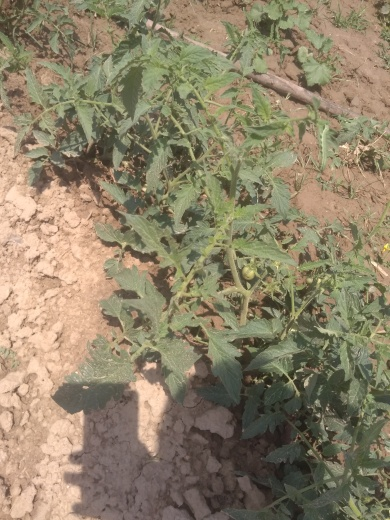tomato: (240, 262, 257, 285)
tomato plant: (116, 146, 379, 503), (50, 27, 242, 213)
